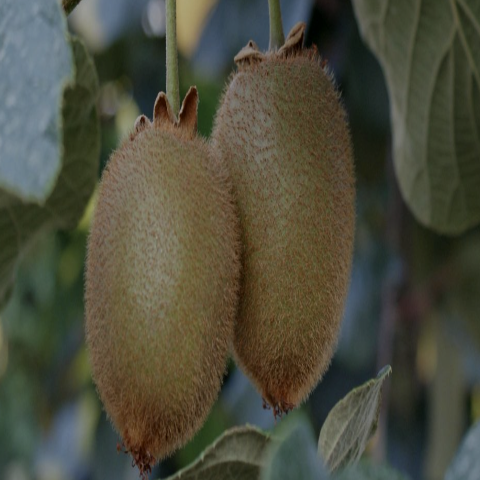kiwi: (200, 35, 371, 412), (85, 78, 242, 476)
